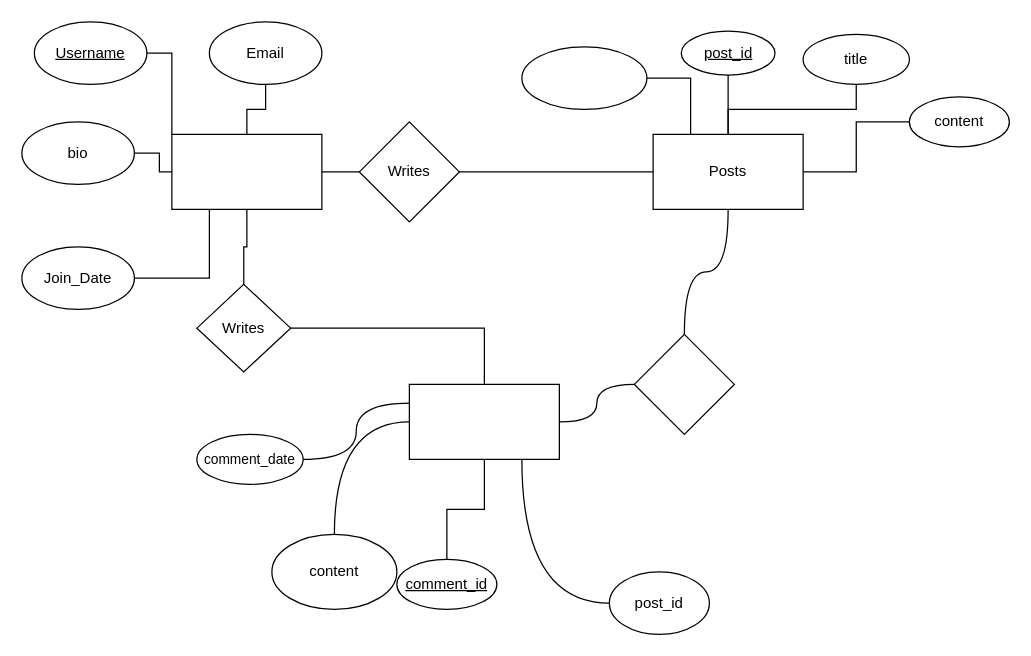
Some shapes in this 1031 by 656 pixel diagram are drawn without their labels. The centre of each missing label's shape, as x and y in pixels:
"Comments" goes at pixel 483 421.
"Contain" goes at pixel 683 383.
"post_date" goes at pixel 584 77.
"User" goes at pixel 246 171.
